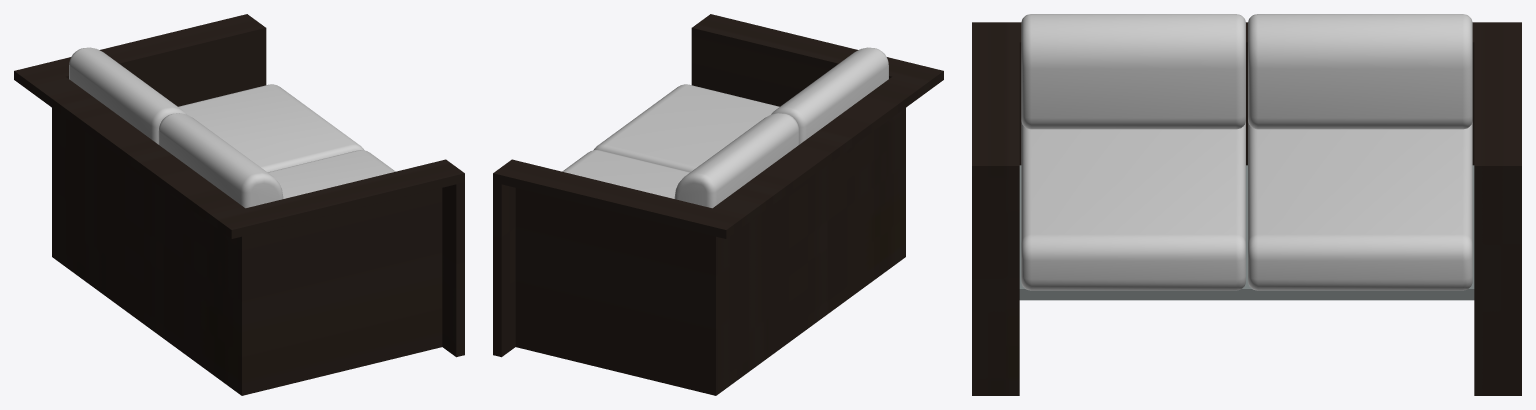
File: sofa-var-2.glb
The picture shows the model from 3 angles, left to right: view 1: azimuth 30°, elevation 25°; view 2: azimuth 150°, elevation 25°; view 3: azimuth 270°, elevation 25°; orthographic projection. The views are drawn at different scales.
Parts seen in each view (by area): view 1: ソファ 4, ソファ, ソファ 5, ソファ 6, ソファ 2; view 2: ソファ 4, ソファ 2, ソファ 6, ソファ 5, ソファ; view 3: ソファ 4, ソファ, ソファ 2, ソファ 5, ソファ 6, ソファ 3.
Boxes of the visible parts, x1,y1,x2,y2 form: ソファ 4: (14,14,464,395); ソファ: (178,84,364,172); ソファ 5: (158,113,283,208); ソファ 6: (69,47,186,144); ソファ 2: (268,150,395,198); ソファ 4: (493,14,943,395); ソファ 2: (593,84,779,172); ソファ 6: (674,113,799,208); ソファ 5: (771,47,888,144); ソファ: (562,150,689,198); ソファ 4: (972,22,1521,395); ソファ: (1248,121,1472,290); ソファ 2: (1021,121,1245,290); ソファ 5: (1021,14,1245,129); ソファ 6: (1248,14,1472,129); ソファ 3: (1019,165,1474,300).
Size of the model in its own units: 18.22 by 14.8 by 27.81.
Materials: 3 (1 with a texture image).
